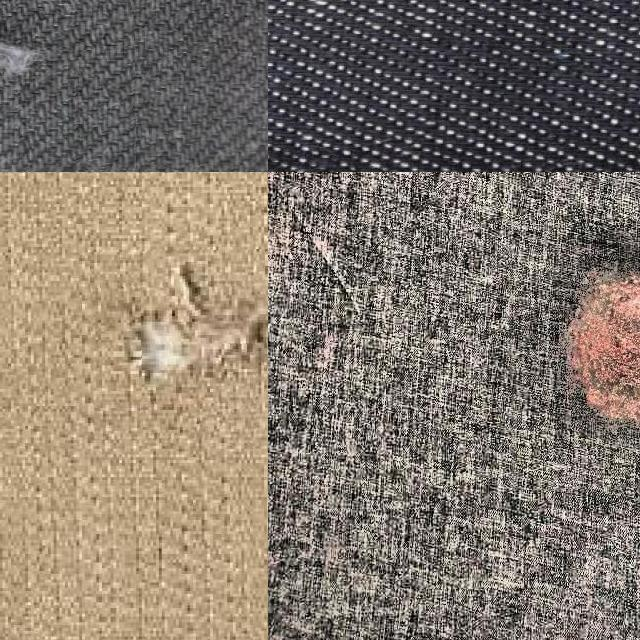Thread_other: (508, 178, 640, 488)
other: (91, 248, 268, 437)
